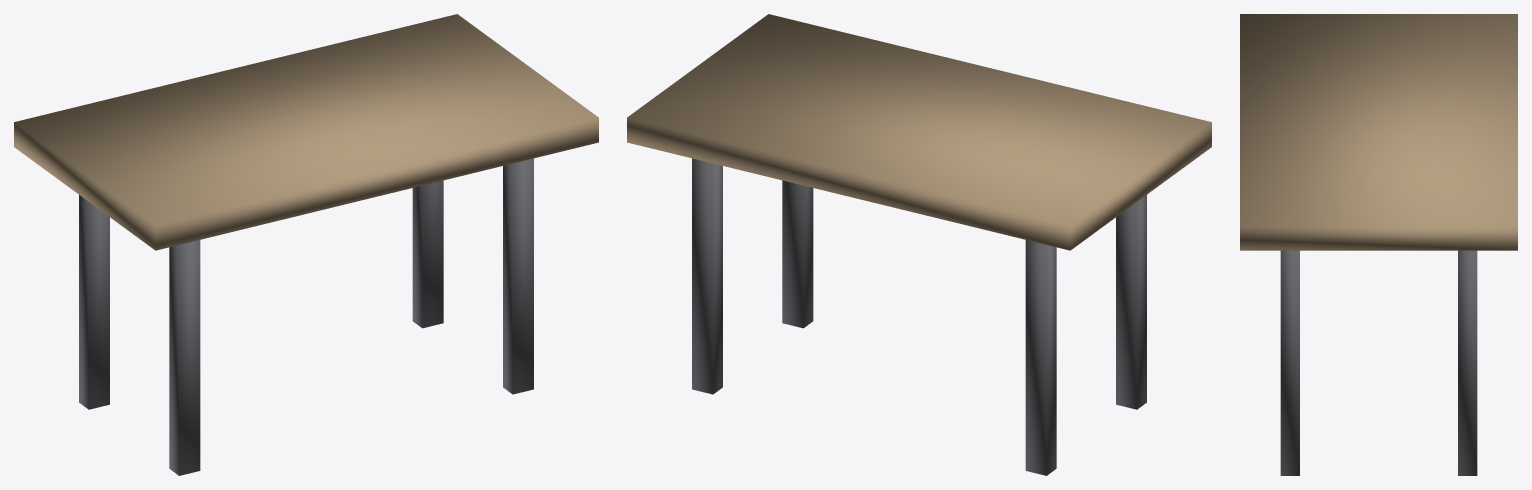
The model's file is diner_four_top__wide.glb.
The picture shows the model from 3 angles, left to right: view 1: azimuth 30°, elevation 25°; view 2: azimuth 150°, elevation 25°; view 3: azimuth 270°, elevation 25°; orthographic projection.
Visible parts, largest first — view 1: world; view 2: world; view 3: world.
Boxes of the visible parts, bbox=[...] form: world: bbox=[14, 14, 598, 475]; world: bbox=[627, 14, 1211, 475]; world: bbox=[1240, 14, 1517, 475].
Size of the model in its own units: 1.3 by 0.775 by 0.72.
